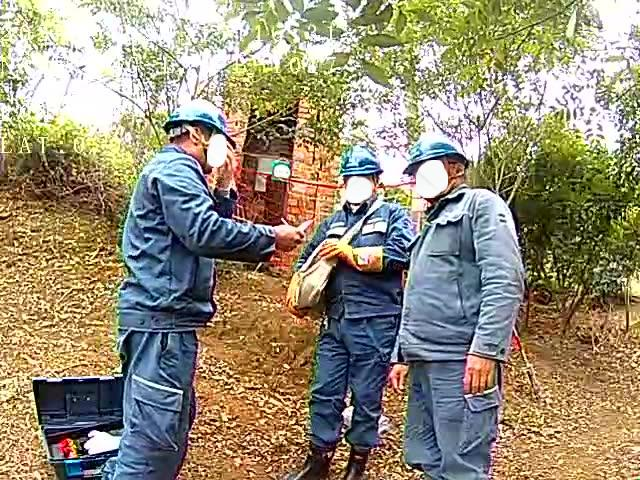halt: (167, 105, 236, 177), (405, 141, 473, 203), (342, 148, 386, 206)
inear: (445, 161, 468, 186)
outear: (185, 126, 218, 169)
